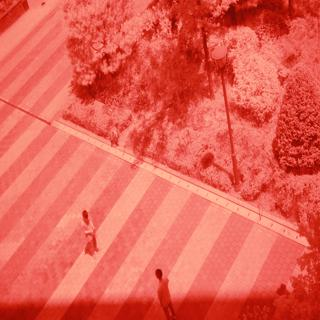person: (71, 204, 105, 268), (150, 266, 180, 320)
